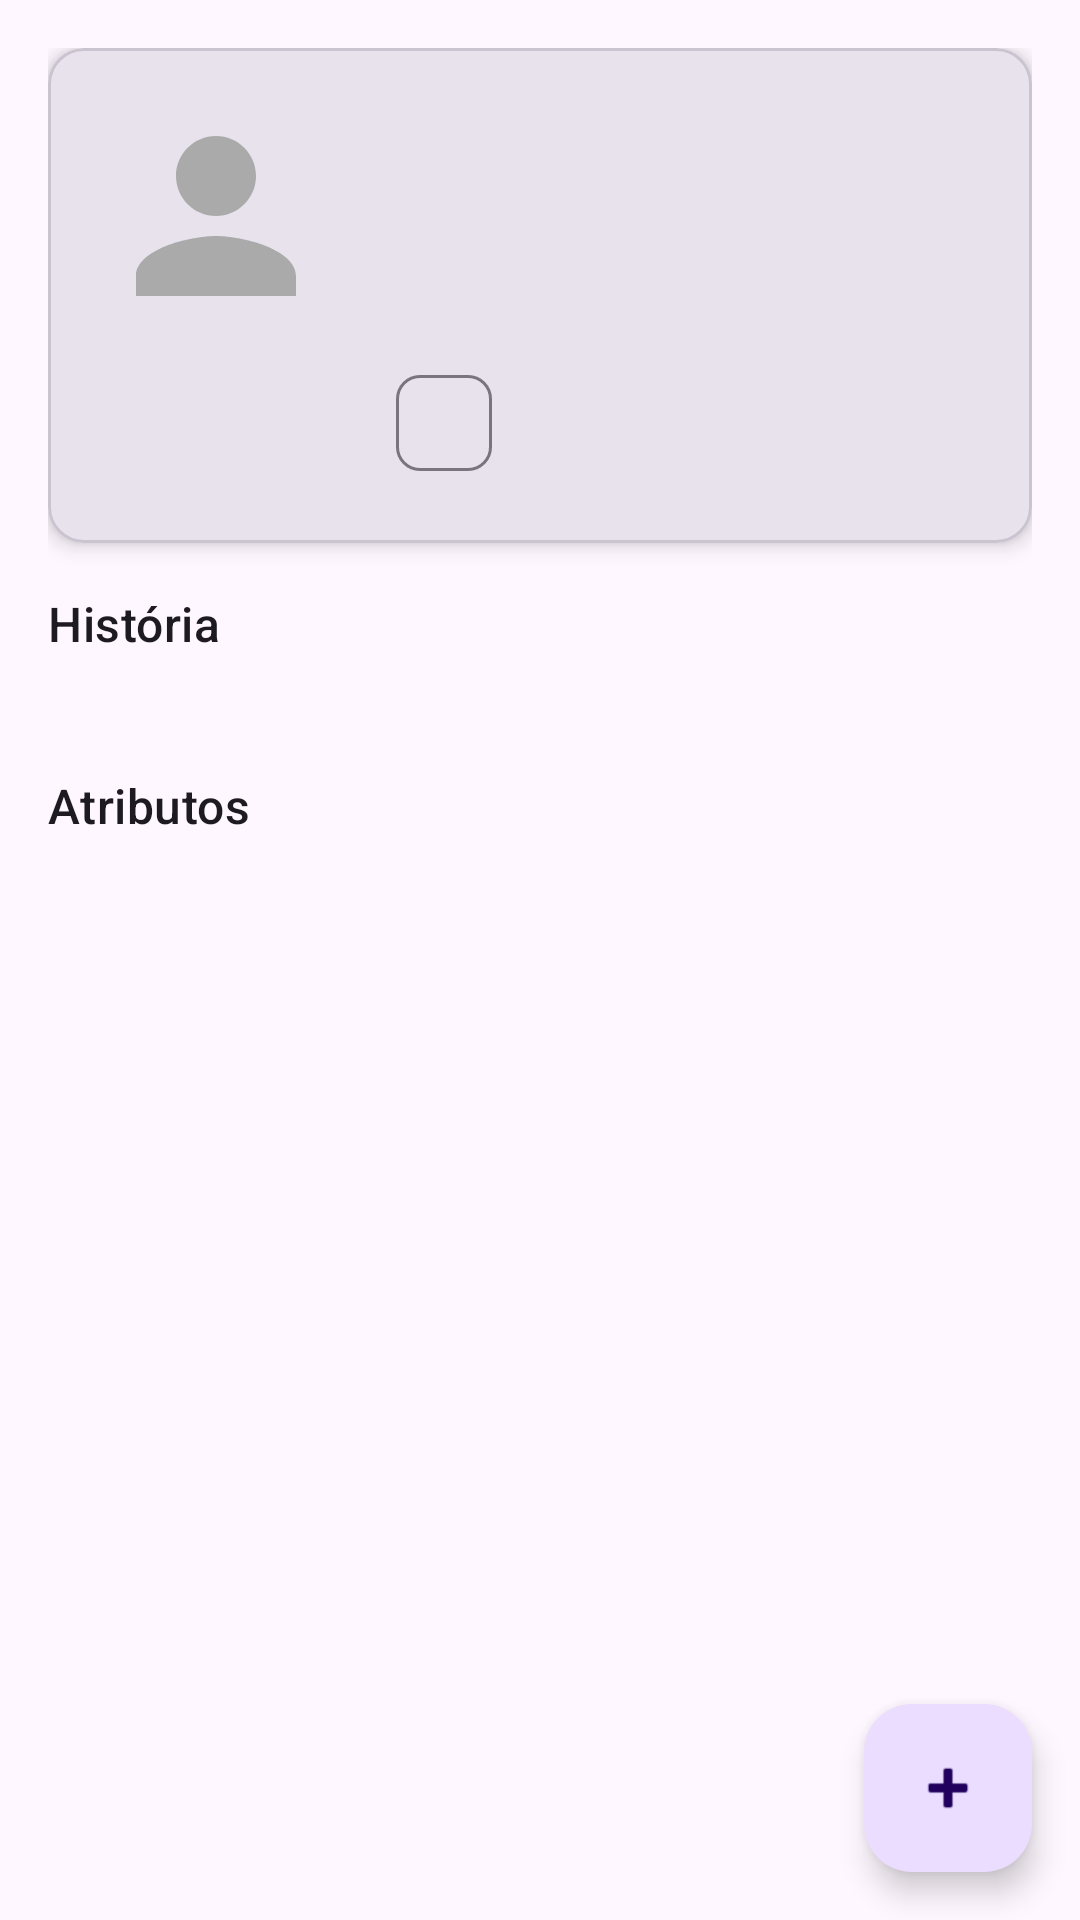

Locate icon controls on the screen. Image size 1080*1920, boxes as (x1, y1, x2, y2).
Novo atributo: (864, 1704, 1032, 1872)
